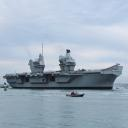Portanaves: (3, 46, 125, 92)
